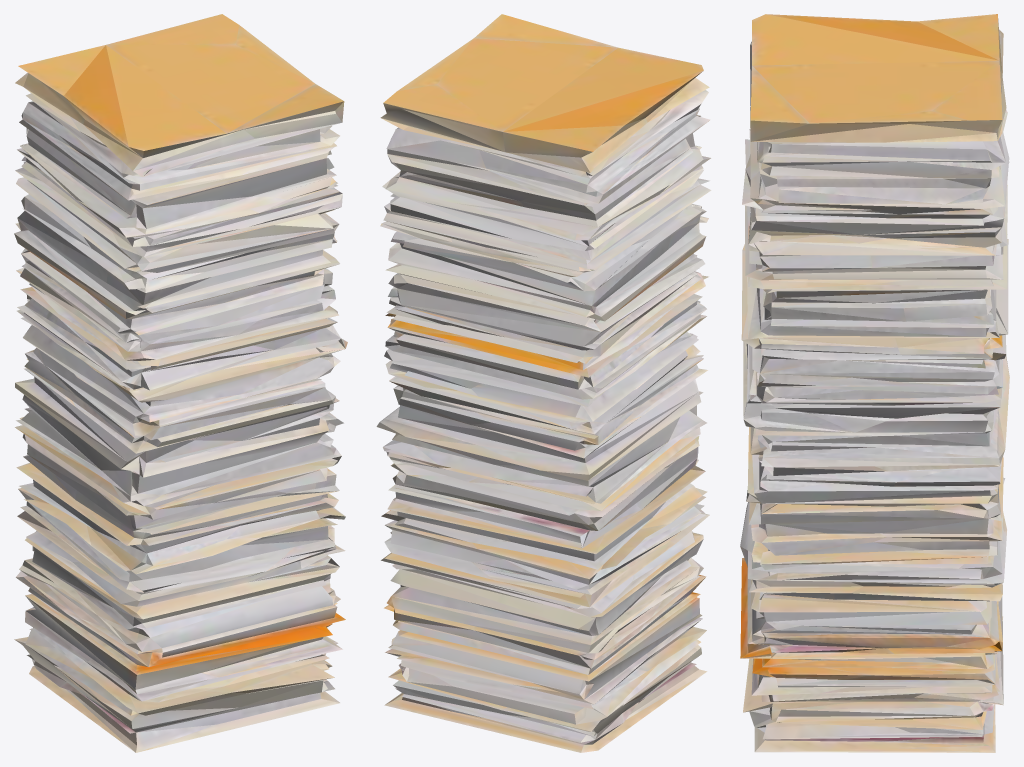
The model's file is files.glb.
The picture shows the model from 3 angles, left to right: view 1: azimuth 30°, elevation 25°; view 2: azimuth 150°, elevation 25°; view 3: azimuth 270°, elevation 25°; orthographic projection. The views are drawn at different scales.
Size of the model in its own units: 0.7426 by 1.9 by 0.734.
1 material, 1 textured.
